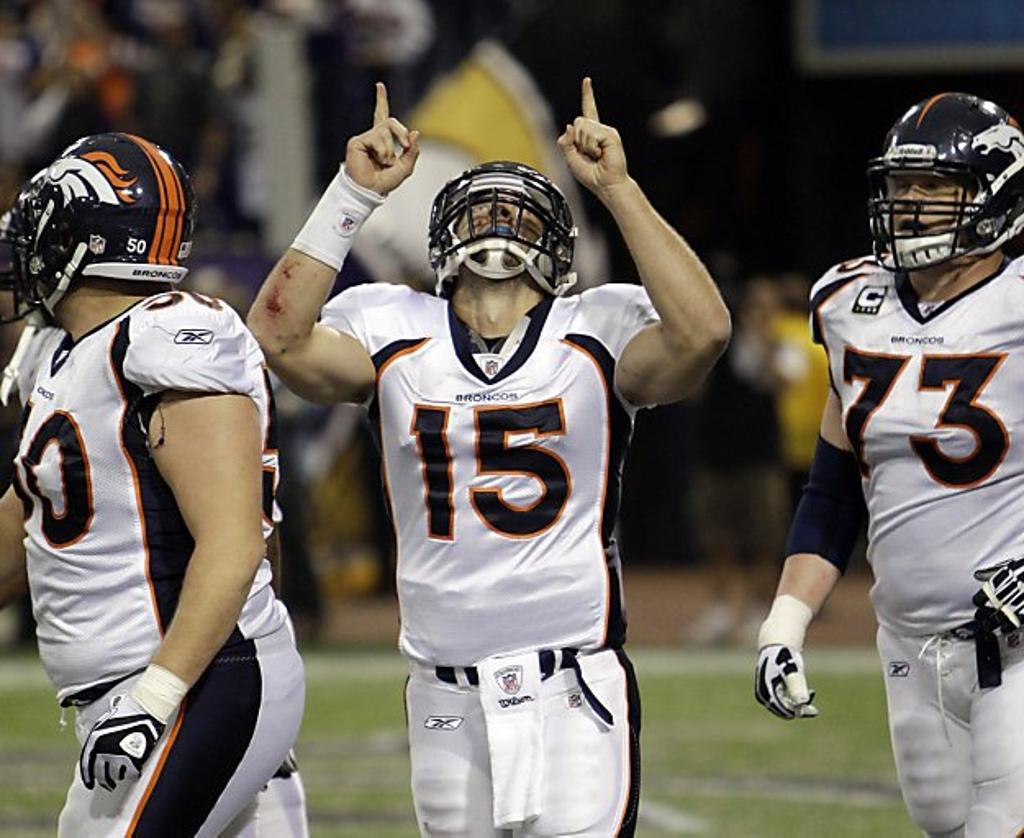face: (878, 130, 978, 274), (454, 174, 556, 288)
